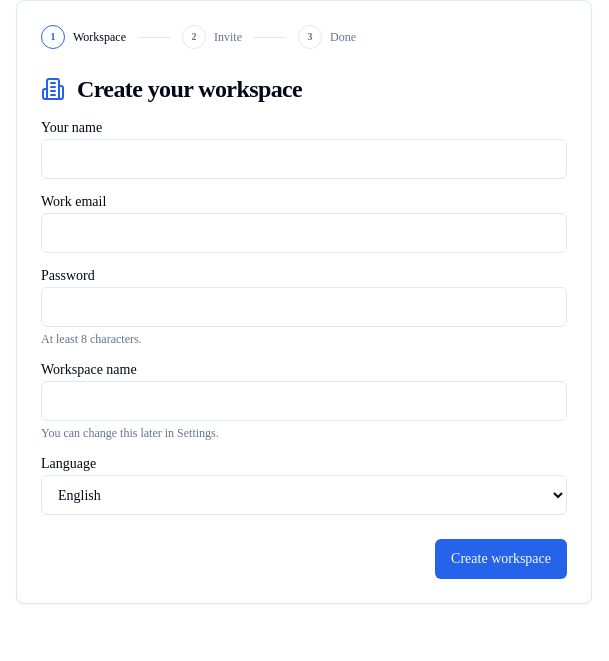
Test case: SignupWizard — Step 1 (workspace) › surfaces validation errors for missing fields
This screenshot has width=609, height=661.
Click the button with test id "signup-submit": (501, 559) x1=435 y1=539 x2=567 y2=579
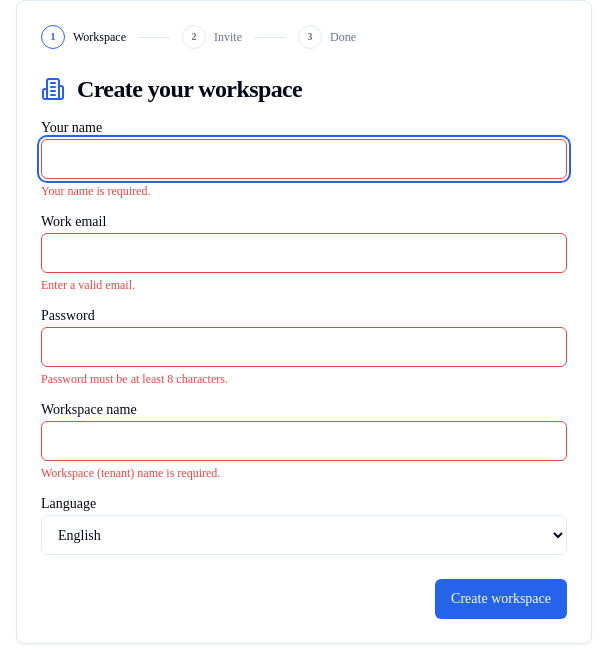
Check: the text "Your name is required." is shown, box x1=41 y1=184 x2=150 y2=198
